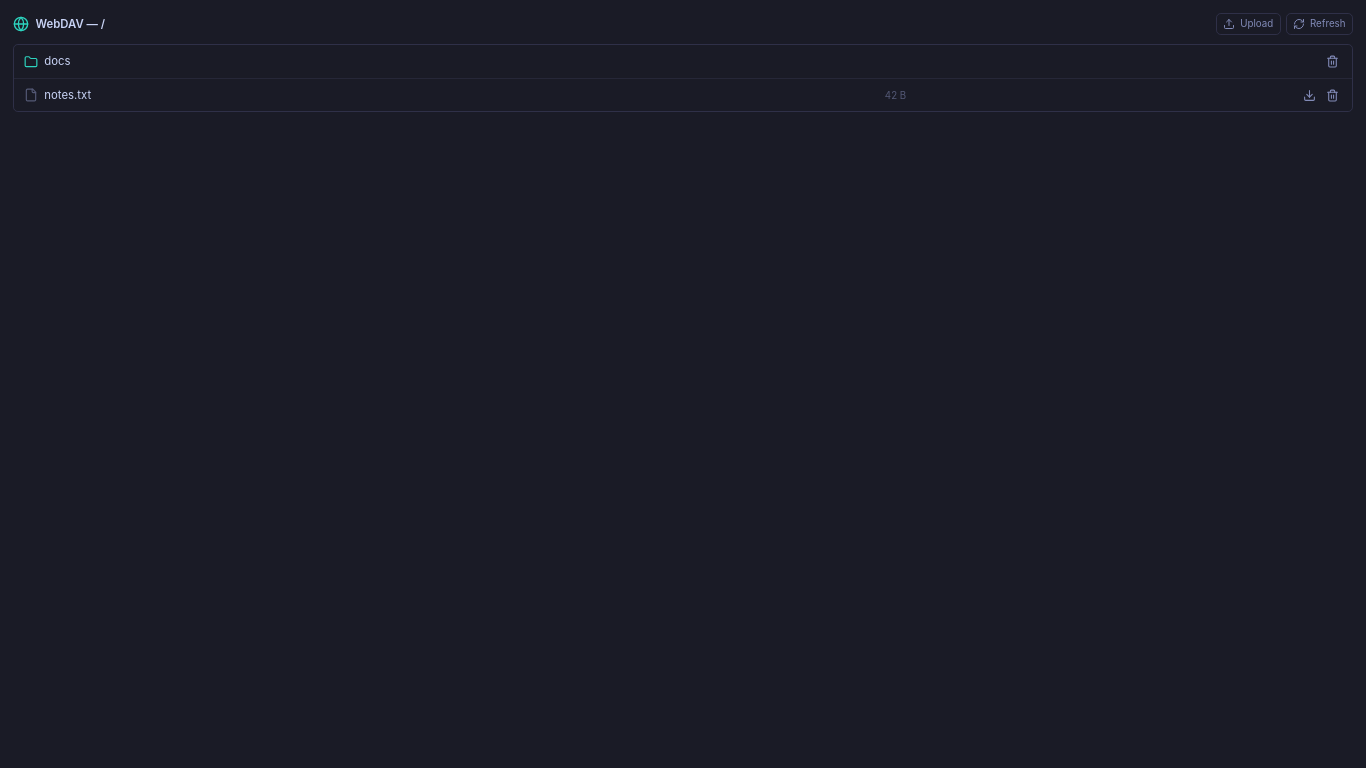
it: WebDavBrowser › deletes a file after confirming, then refreshes the listing
Check: the text "notes.txt" is shown, box x1=44 y1=87 x2=91 y2=103
Click the button titled "Delete" in the row of "42 B" at (1333, 95), box x1=1323 y1=85 x2=1342 y2=105
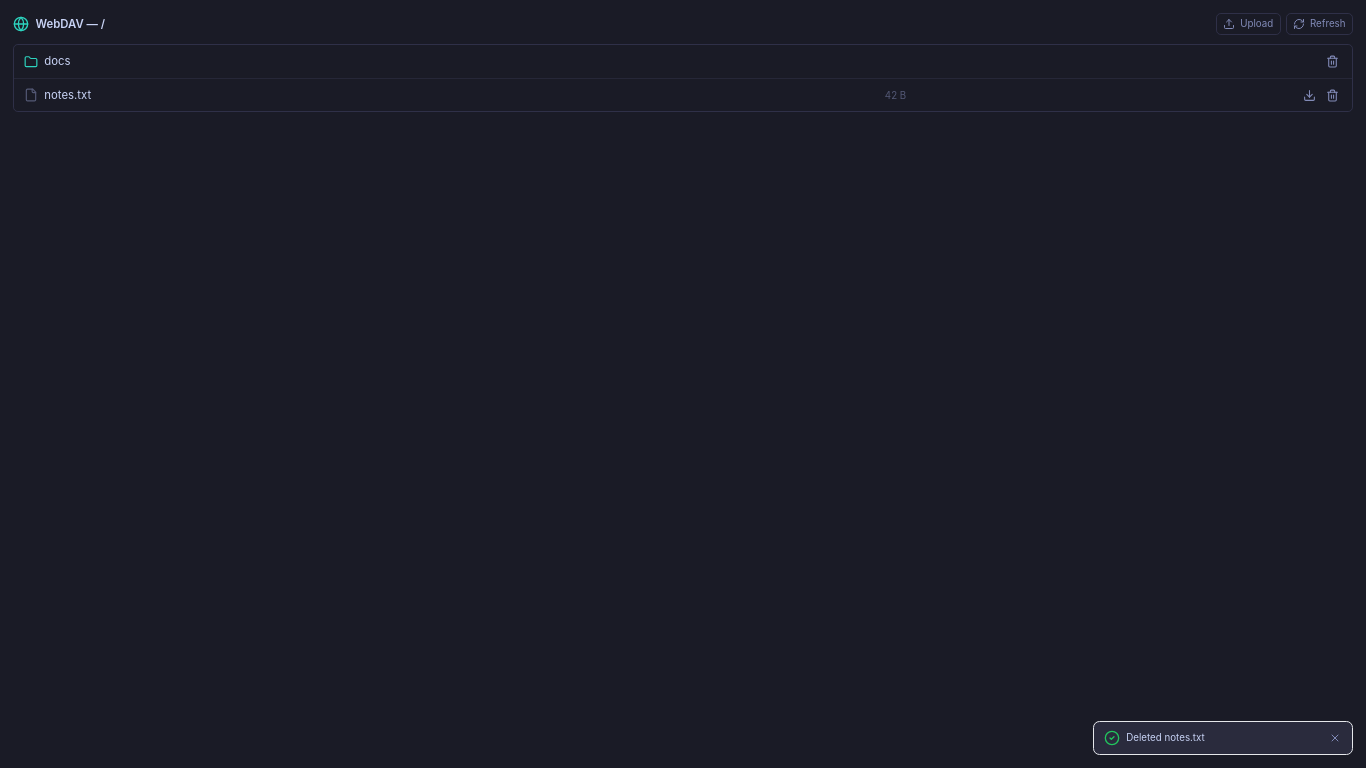
Check: the text "Deleted notes.txt" is shown, box x1=1126 y1=732 x2=1205 y2=743
